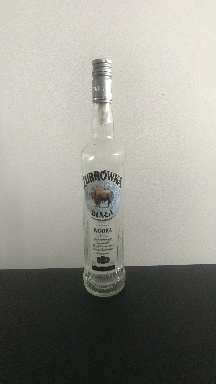butelka: (79, 54, 126, 300)
